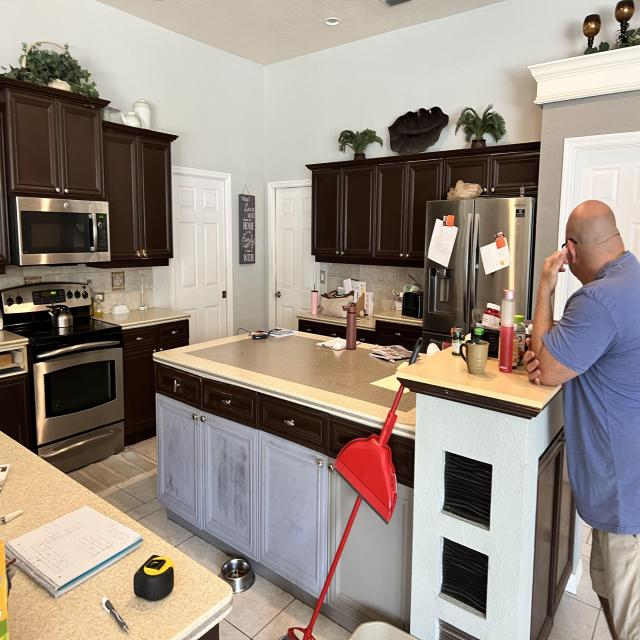Appliance_Fridge: (423, 196, 536, 339)
Appliance_Microwave: (17, 197, 111, 266)
Appliance_Oven: (0, 283, 124, 473)
Cabinet_Shaker: (123, 320, 415, 624), (0, 78, 178, 279), (309, 143, 540, 268), (0, 366, 35, 450)
Countertop_Granite: (0, 431, 233, 640), (154, 329, 401, 423), (101, 308, 186, 325), (3, 330, 25, 342)
Countertop_Wood: (396, 347, 562, 418)
